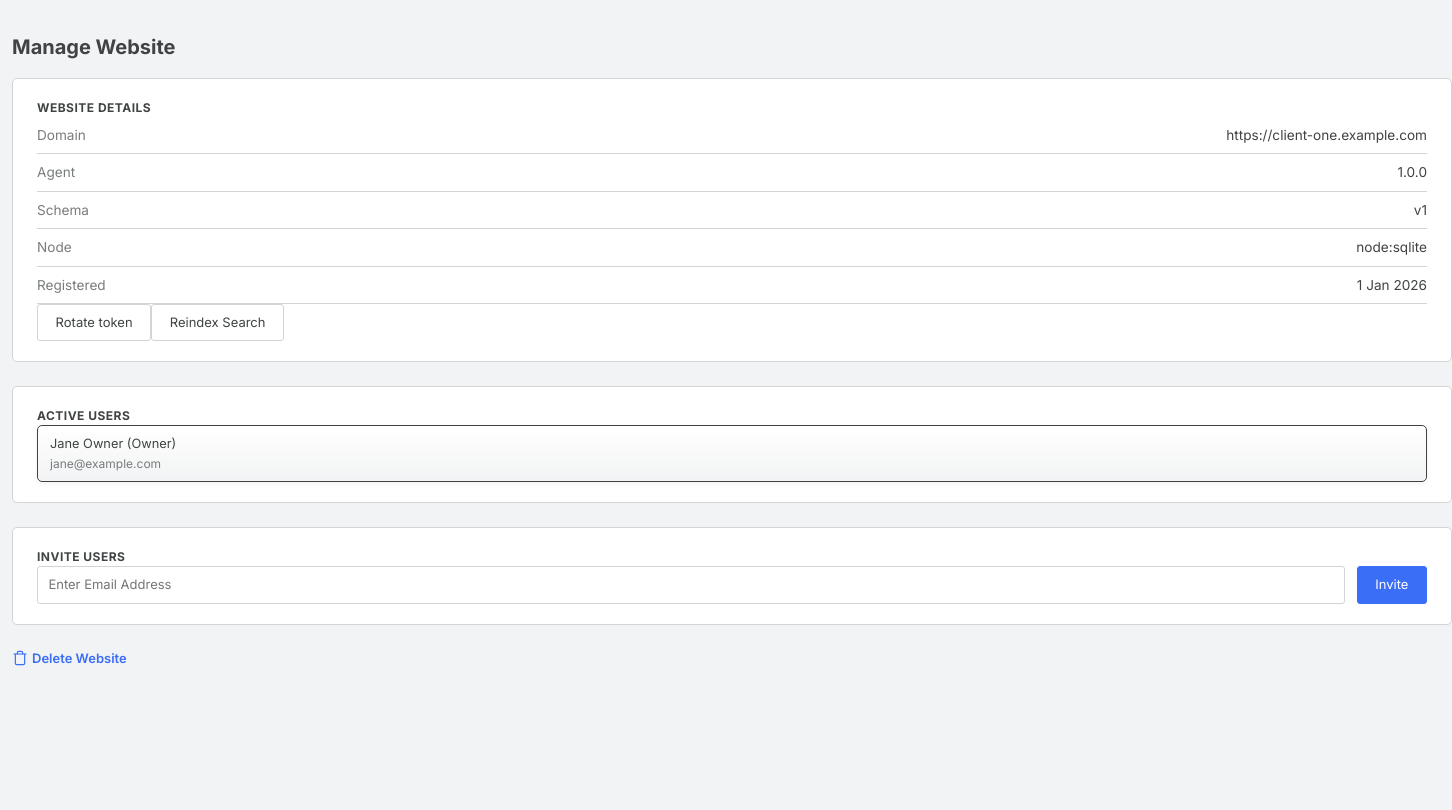
Test: ManageSitePage › rotating the token submits the new value and closes back to the normal action
The image size is (1452, 810).
Expected: the text "https://client-one.example.com" is shown, [1226,125,1427,145]
Click the button "Rotate token" at (94, 323), box [37,304,151,342]
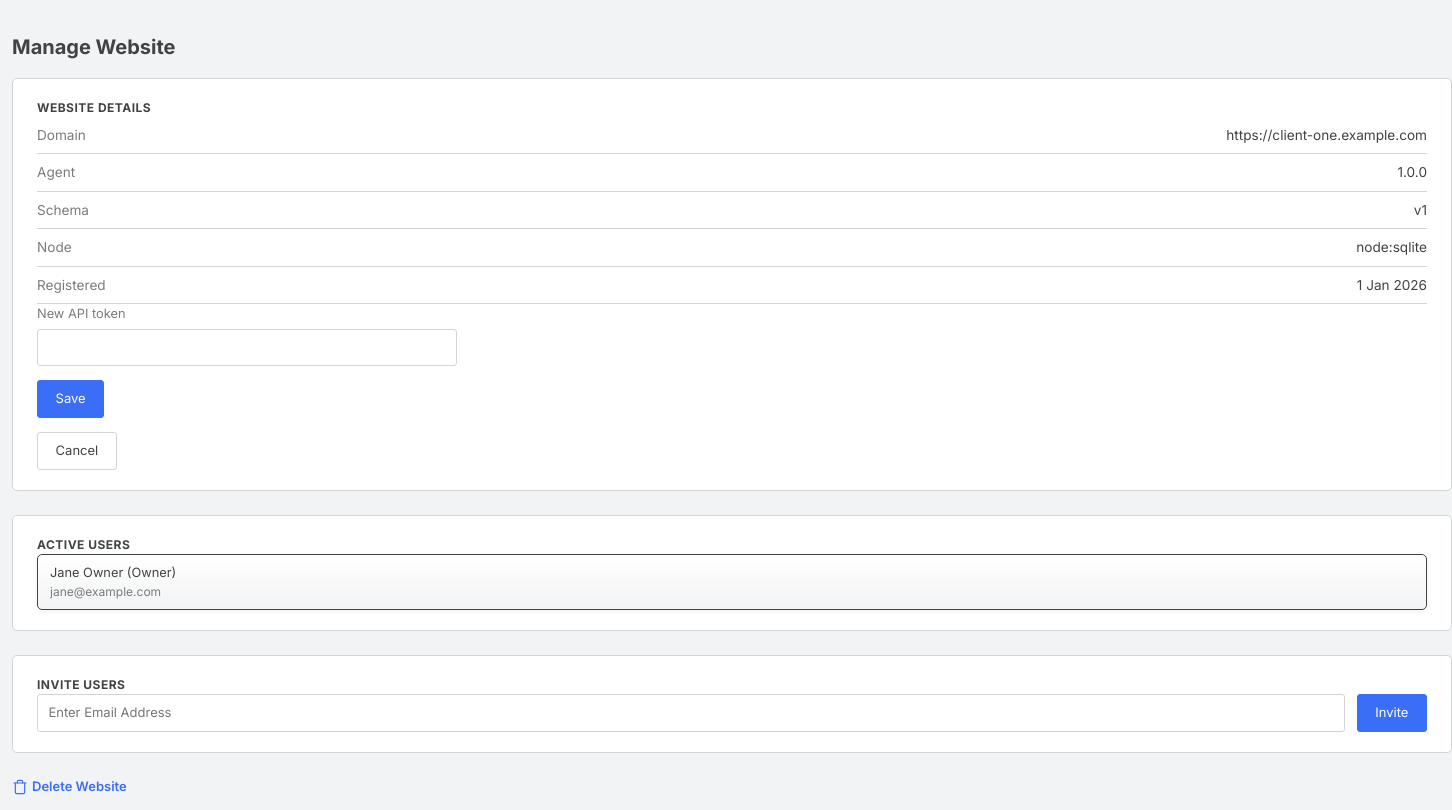
Type "a-brand-new-token" into the field labelled "New API token" at (247, 347), box [37,329,457,366]
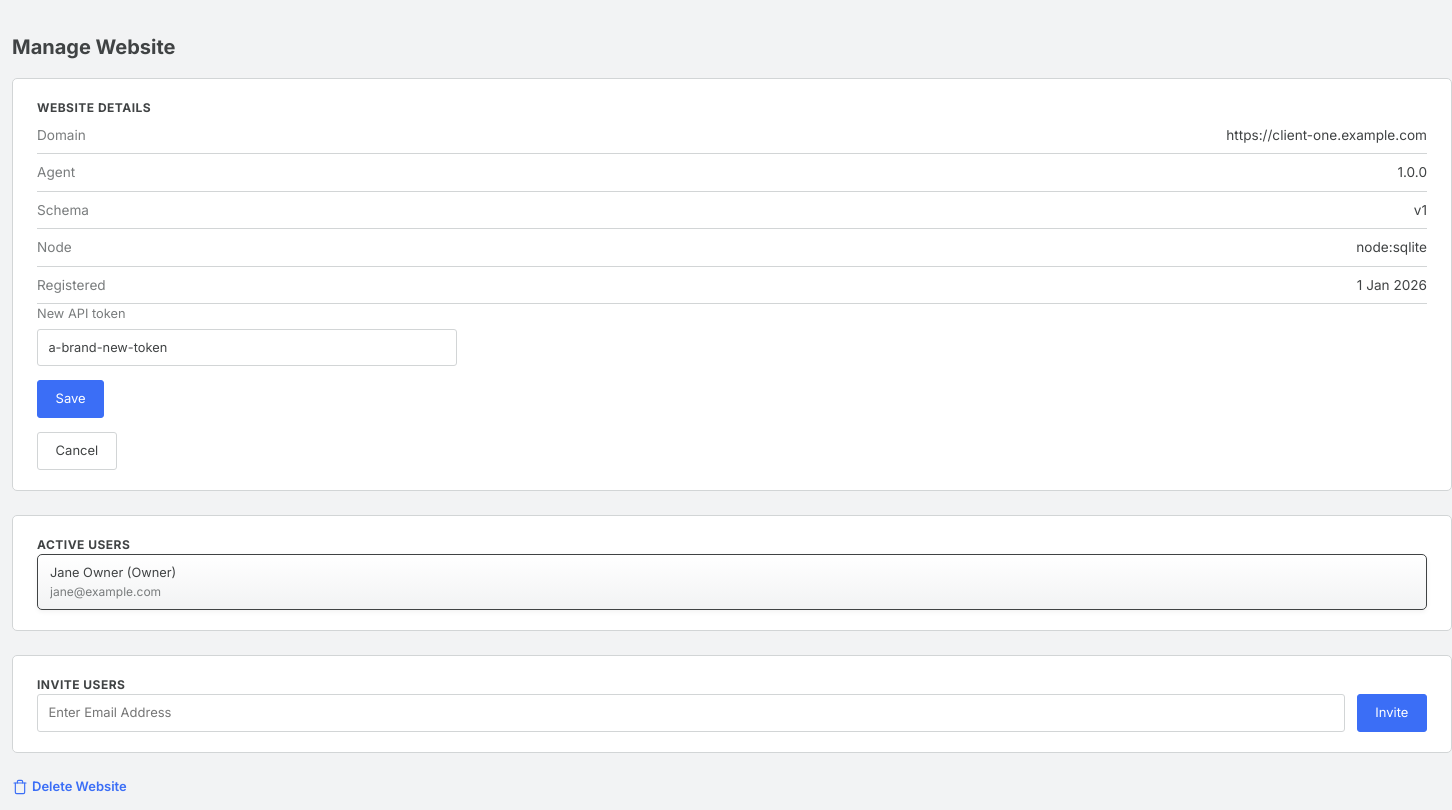
Click the button "Save" at (71, 399), box [37,380,104,418]
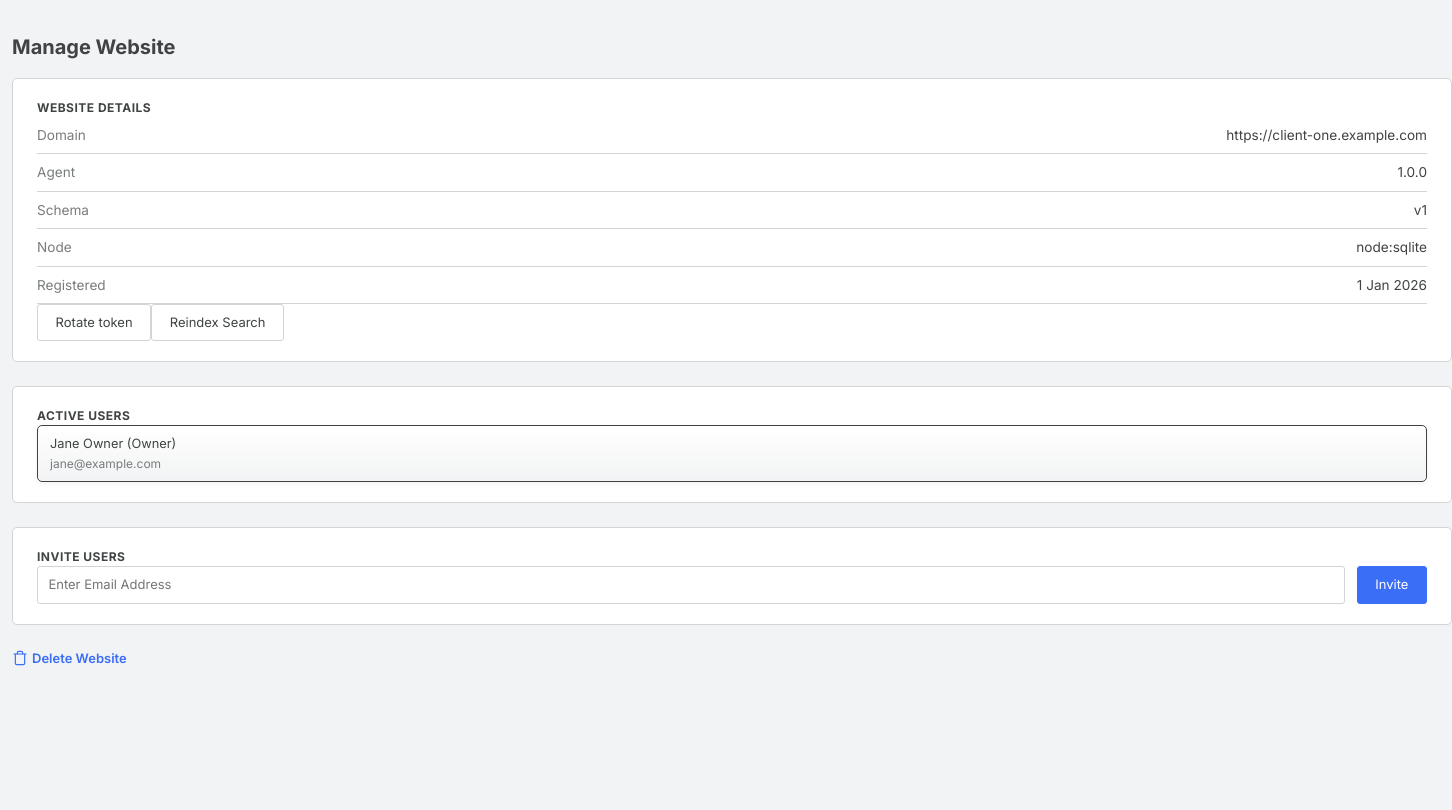
Expected: the button "Rotate token" is shown, [37,304,151,342]
